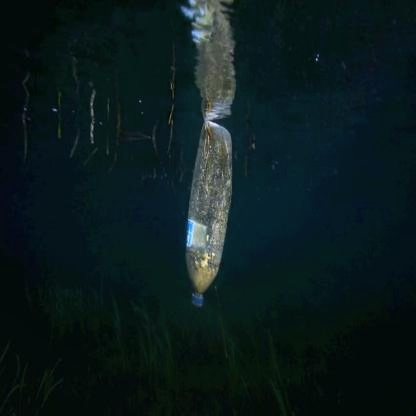pbottle: (174, 114, 233, 310)
